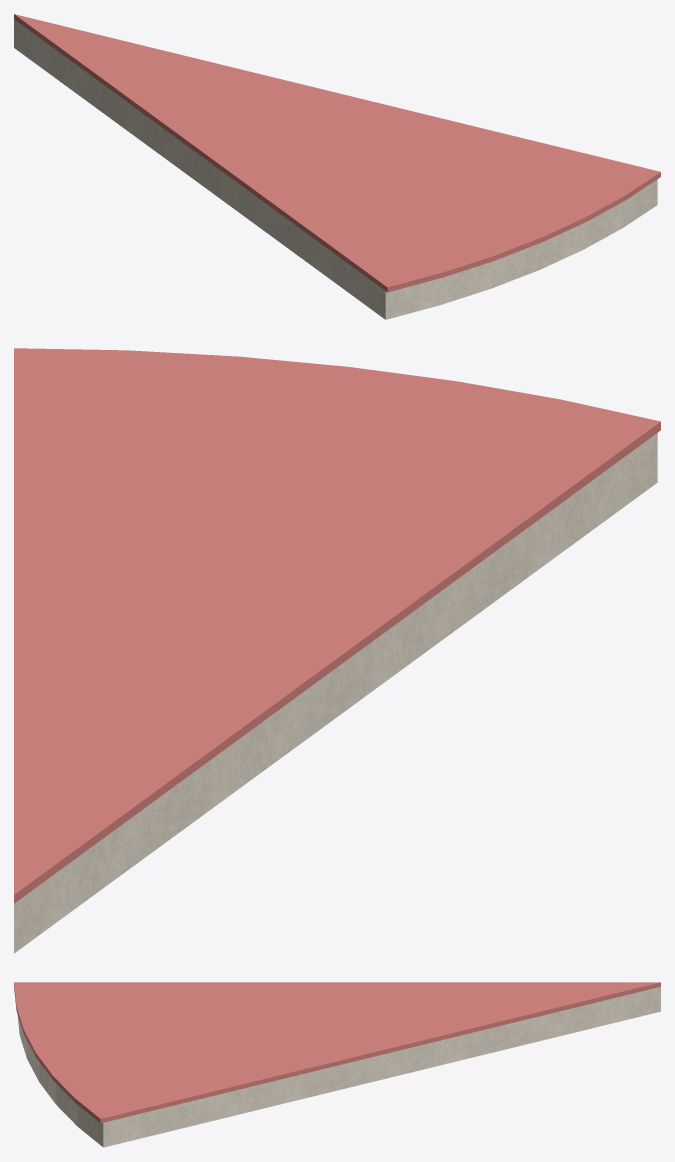
File: floor_curve.glb
3 views of the same model, one above another, from view 1: azimuth 30°, elevation 25°; view 2: azimuth 150°, elevation 25°; view 3: azimuth 270°, elevation 25° (orthographic). The views are drawn at different scales.
Parts seen in each view (by area): view 1: floor_curve_floor_red, floor_curve_plaster; view 2: floor_curve_floor_red, floor_curve_plaster; view 3: floor_curve_floor_red, floor_curve_plaster.
Part boxes in pixels (left/top/right/bottom): floor_curve_floor_red: left=14, top=14, right=660, bottom=292; floor_curve_plaster: left=14, top=19, right=657, bottom=319; floor_curve_floor_red: left=14, top=348, right=660, bottom=903; floor_curve_plaster: left=14, top=433, right=657, bottom=953; floor_curve_floor_red: left=14, top=982, right=660, bottom=1123; floor_curve_plaster: left=17, top=987, right=660, bottom=1147.
Bounding box in the file's own units: 2 × 0.2 × 4.
2 materials, 1 textured.
